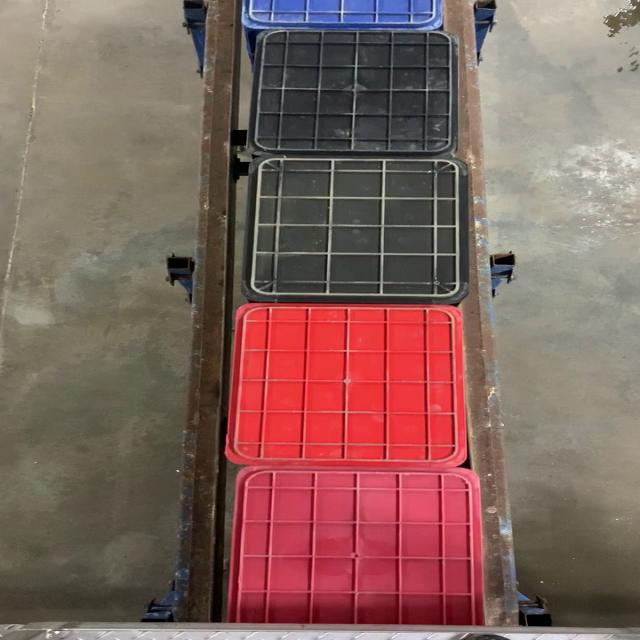Box: (223, 302, 471, 467), (242, 156, 471, 302), (242, 30, 458, 158)
